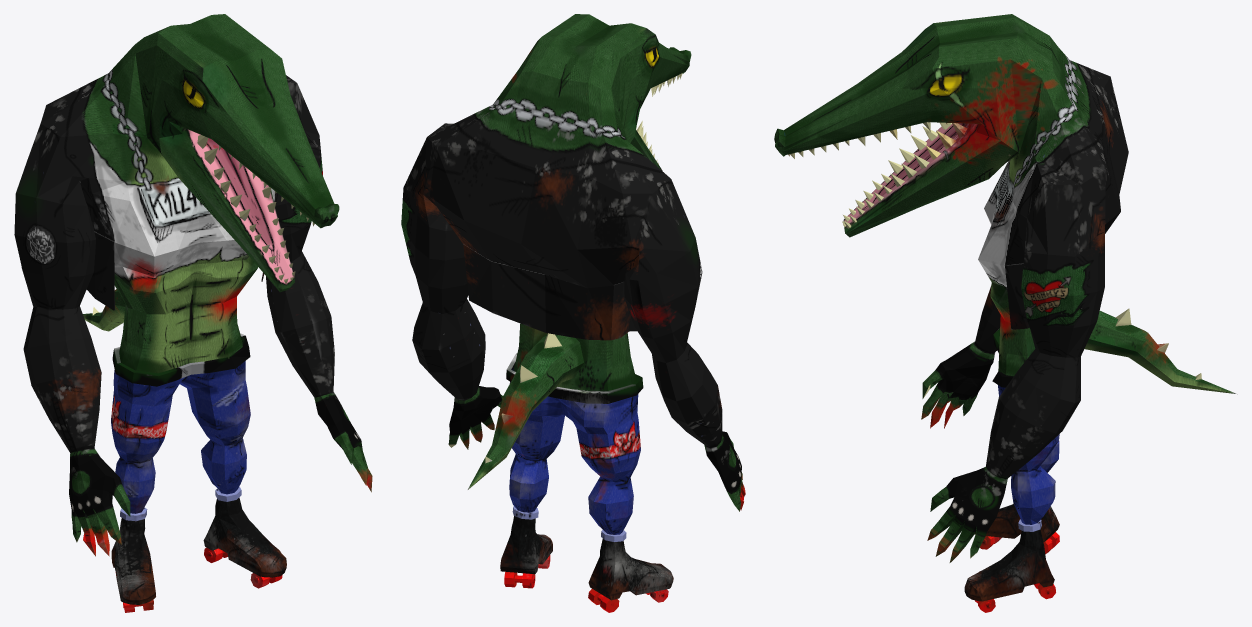
File: cocodrilaBonesSelect_000034.obj
3 views of the same model, side by side, from view 1: azimuth 30°, elevation 25°; view 2: azimuth 150°, elevation 25°; view 3: azimuth 270°, elevation 25° (orthographic). The views are drawn at different scales.
Visible parts, largest first — view 1: Crocodile.002_Cylinder.002; view 2: Crocodile.002_Cylinder.002; view 3: Crocodile.002_Cylinder.002.
Part boxes in pixels (left/top/right/bottom): Crocodile.002_Cylinder.002: left=14, top=14, right=372, bottom=612; Crocodile.002_Cylinder.002: left=401, top=14, right=745, bottom=612; Crocodile.002_Cylinder.002: left=774, top=14, right=1237, bottom=612.
Bounding box in the file's own units: 3.75 × 6.71 × 5.11.
